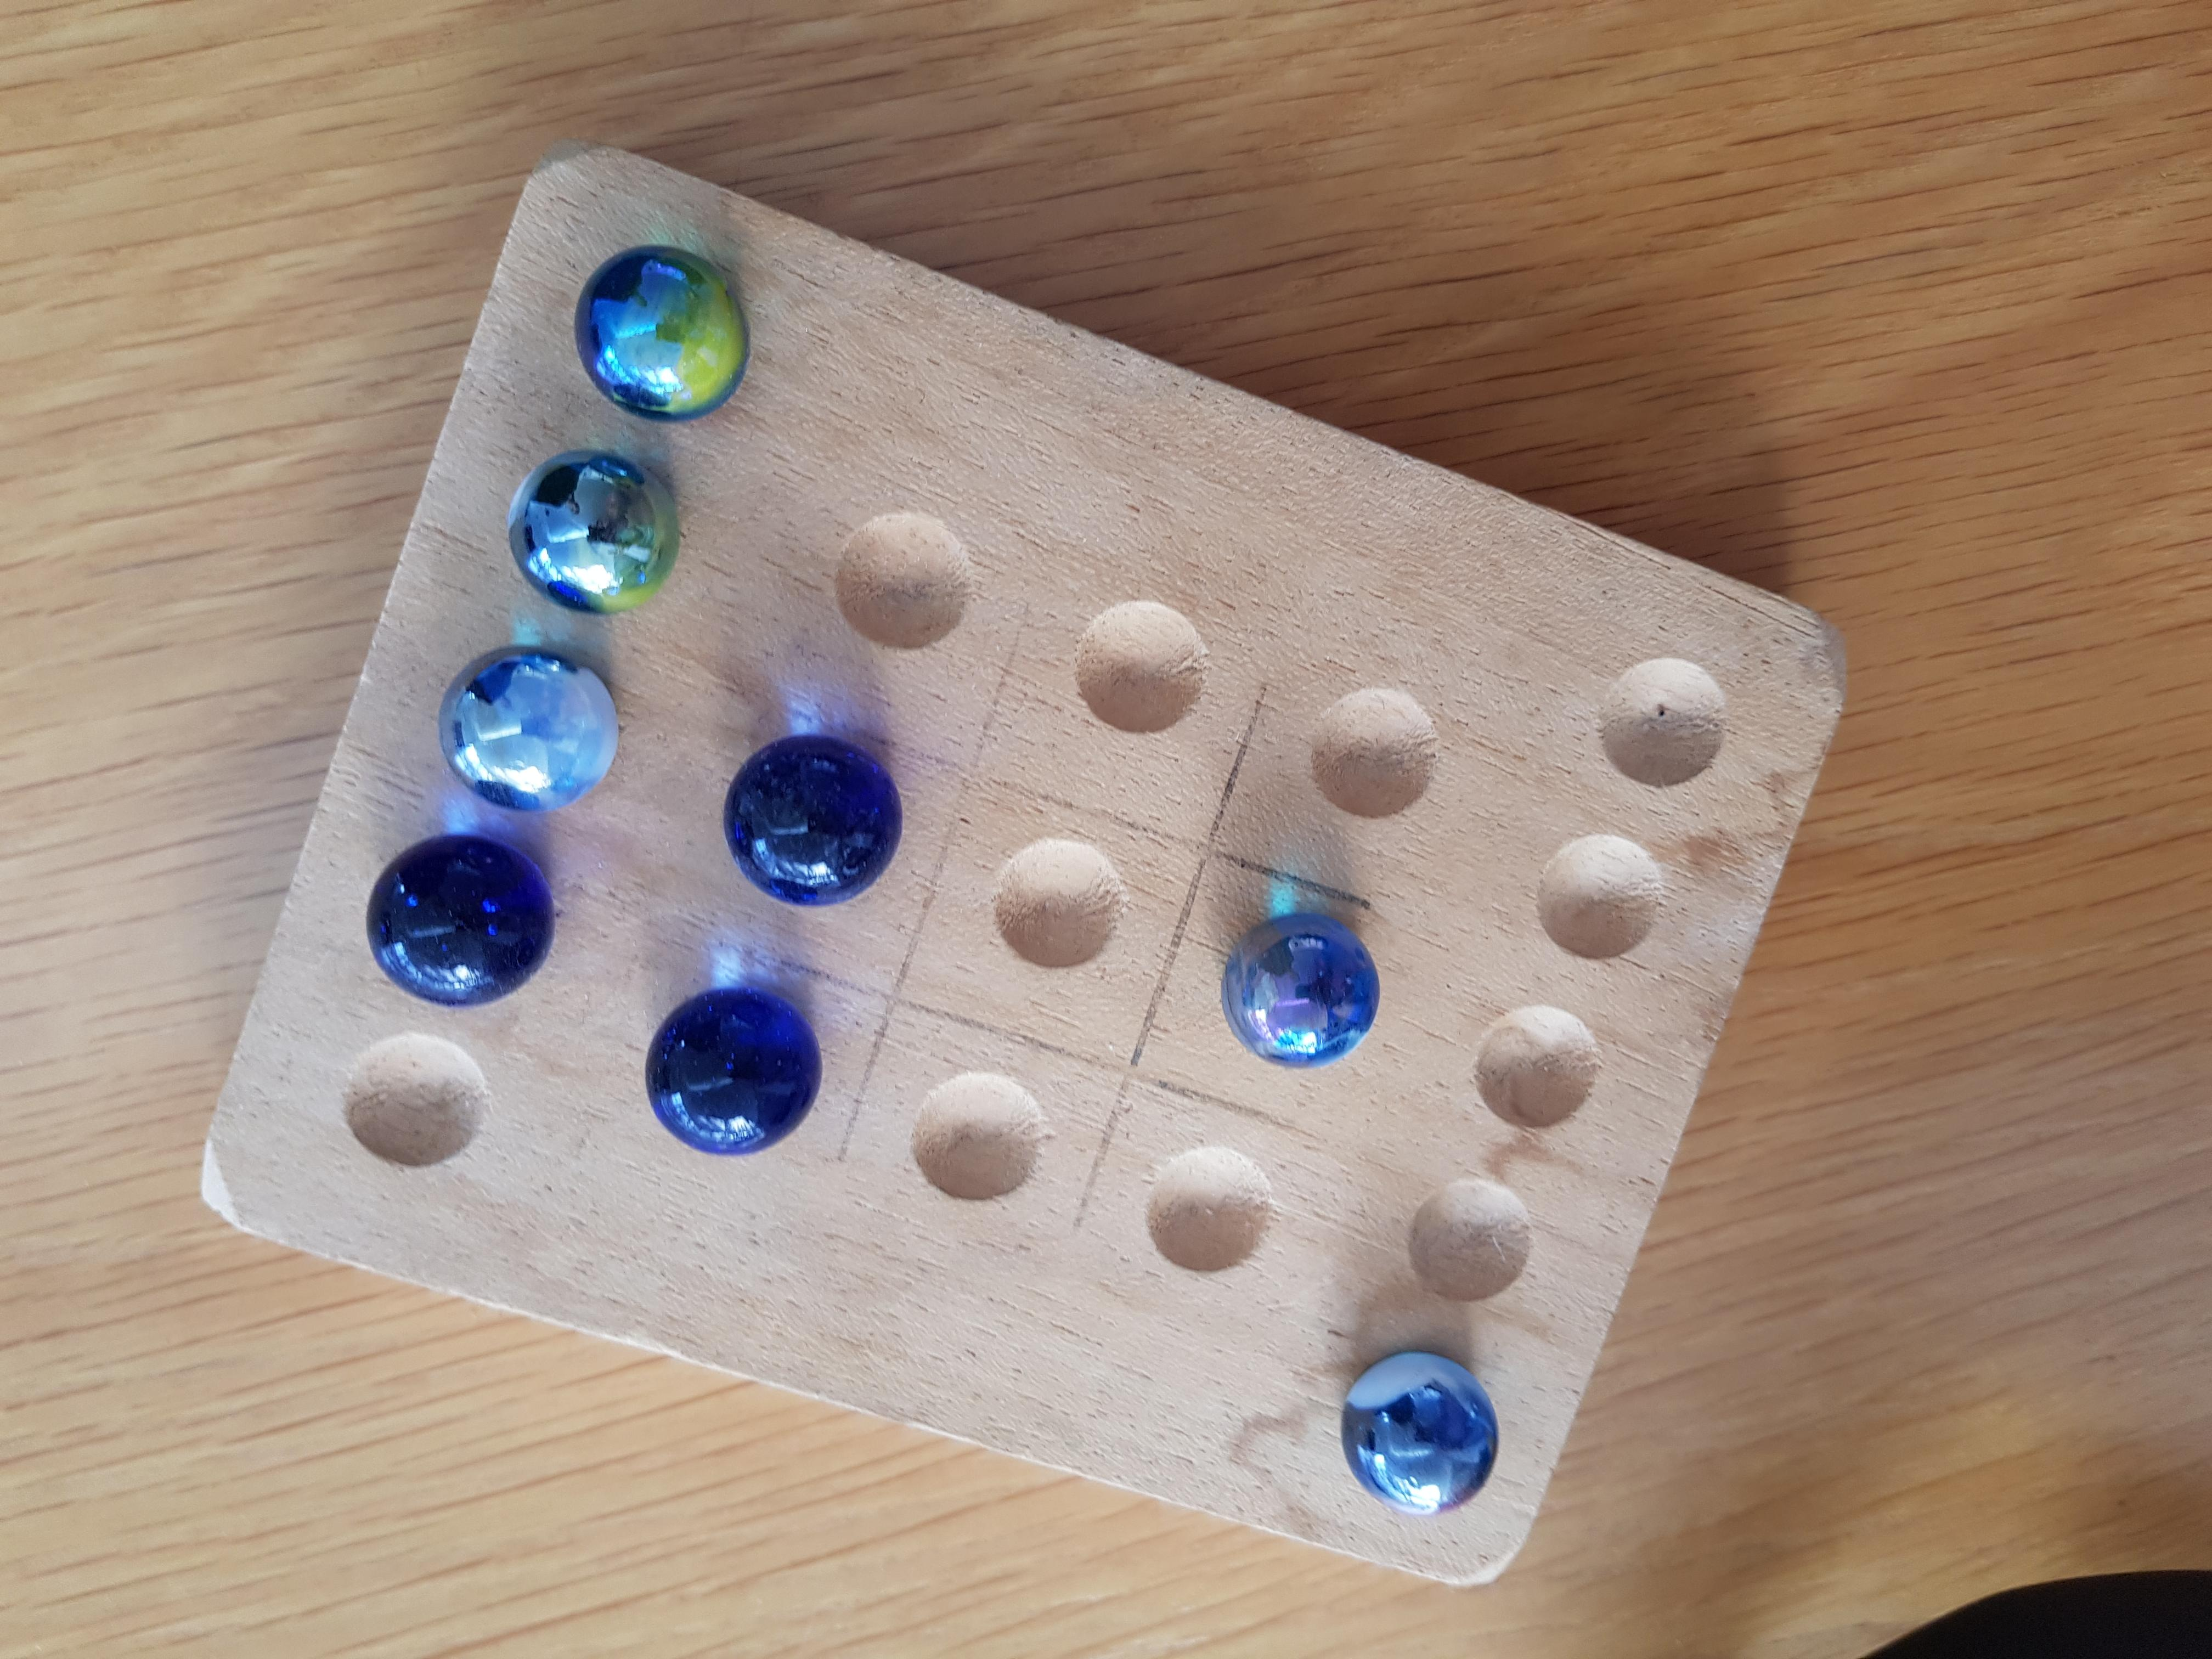sphere: (361, 821, 563, 1012), (726, 718, 913, 906), (1211, 906, 1381, 1100), (570, 232, 744, 420), (1343, 1347, 1500, 1527), (514, 457, 676, 627), (651, 1002, 829, 1147), (451, 643, 617, 795)
